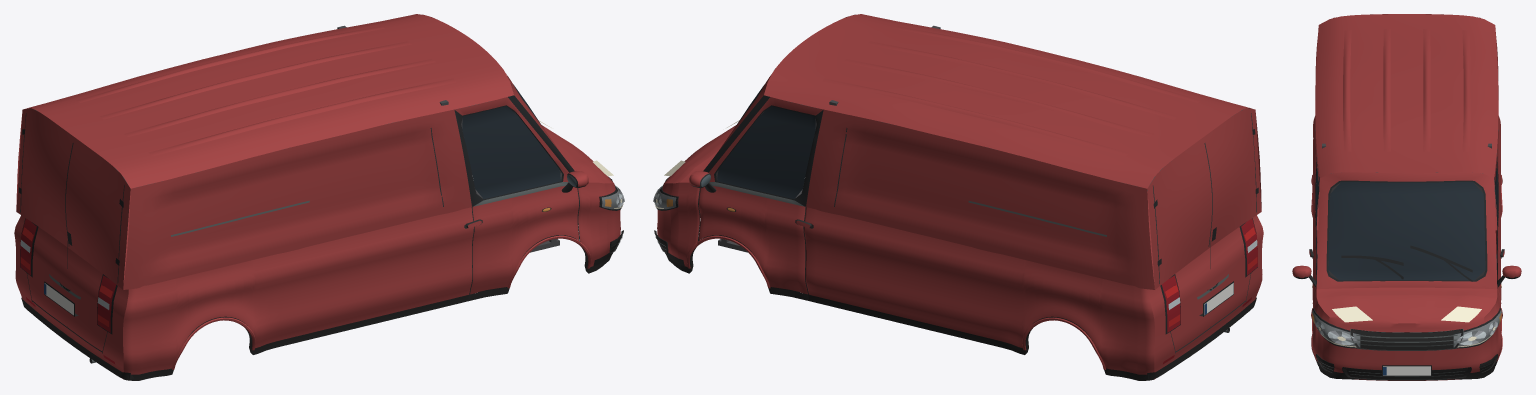
Rendered from van-street.glb.
3 views of the same model, side by side, from view 1: azimuth 30°, elevation 25°; view 2: azimuth 150°, elevation 25°; view 3: azimuth 270°, elevation 25° (orthographic). The views are drawn at different scales.
Visible parts, largest first — view 1: van, van_door2, van_street_trim; view 2: van, van_door1, van_street_trim; view 3: van, van_street_trim, van_door1, van_door2.
Part boxes in pixels (x1=…): van: x1=14, y1=14, x2=620, y2=380; van_door2: x1=454, y1=97, x2=588, y2=294; van_street_trim: x1=20, y1=177, x2=624, y2=379; van: x1=657, y1=14, x2=1263, y2=380; van_door1: x1=689, y1=97, x2=823, y2=294; van_street_trim: x1=653, y1=176, x2=1257, y2=379; van: x1=1311, y1=14, x2=1502, y2=380; van_street_trim: x1=1312, y1=245, x2=1501, y2=380; van_door1: x1=1494, y1=155, x2=1521, y2=333; van_door2: x1=1292, y1=155, x2=1319, y2=333.
Bounding box in the file's own units: 5.3 × 2.06 × 2.43.
